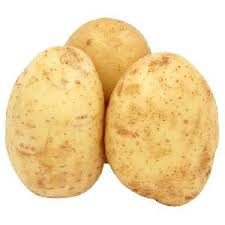potato: (109, 51, 221, 205), (9, 44, 106, 202)
